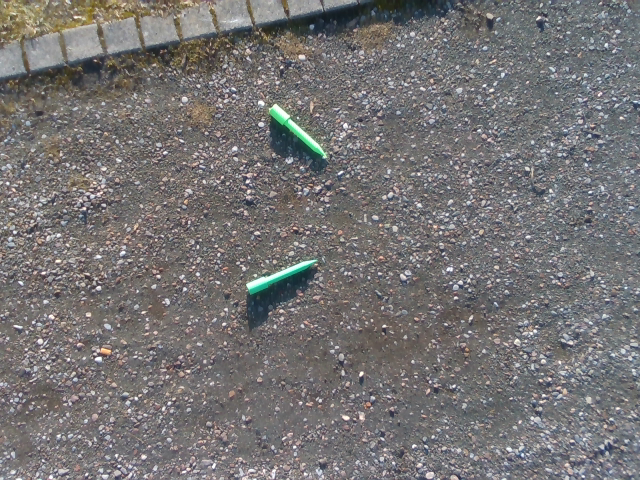Probe: (265, 100, 335, 160), (244, 253, 326, 297)
